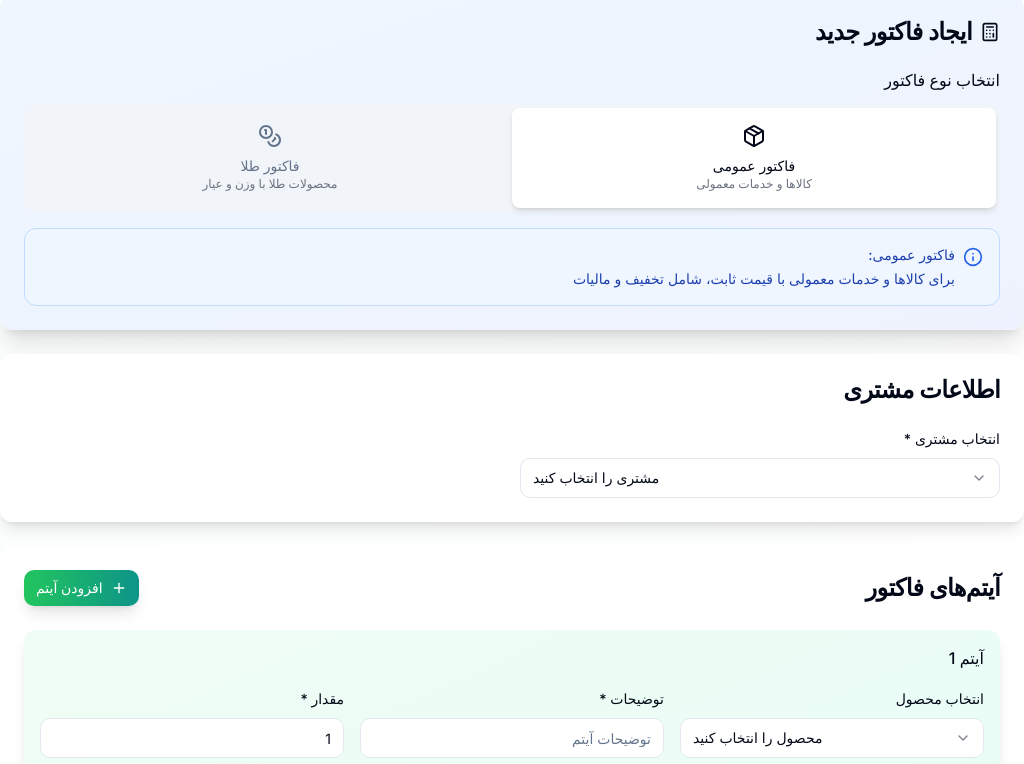
Test: InvoiceForm › Invoice Items Management › should populate item fields when product is selected
What coordinates should you click on to do the following:
click the dropdown labelled "محصول را انتخاب کنید"
I would click on:
 (758, 738)
Its box is [680,718,984,758].
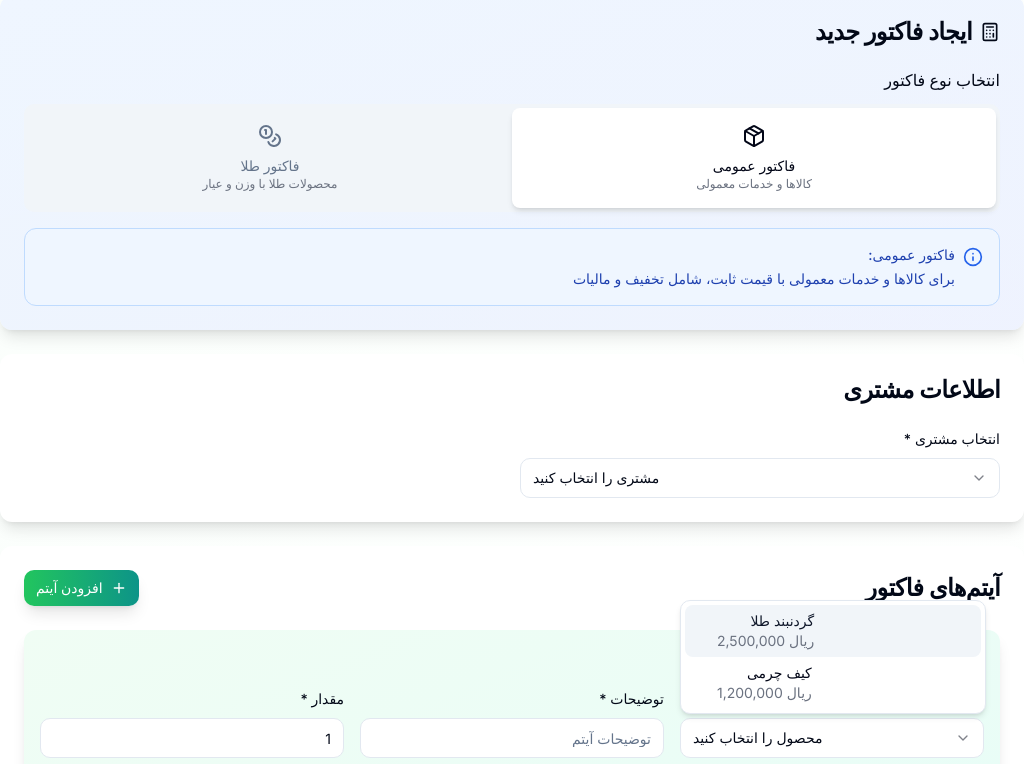
What coordinates should you click on to do the following:
click the text "گردنبند طلا"
I would click on:
 (782, 620)
Its box is [750,612,814,629].
(page scrolled)
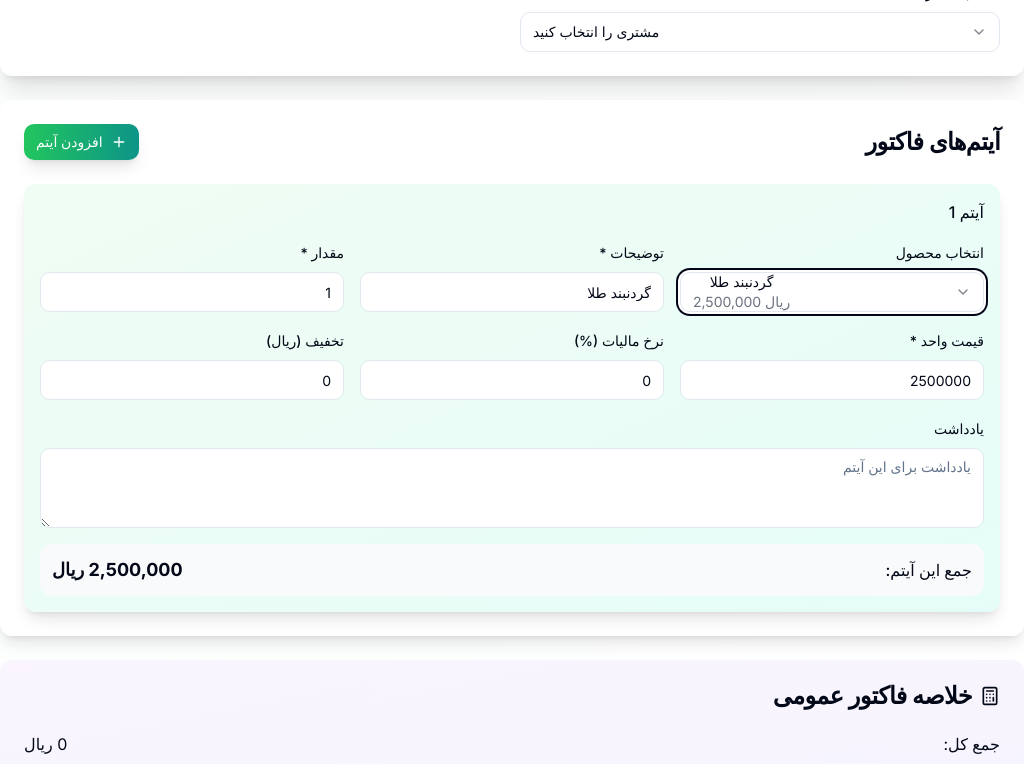
Check: the field showing "گردنبند طلا" is shown, box [360,272,664,312]
Check: the number field showing "2500000" is shown, box [680,360,984,400]
